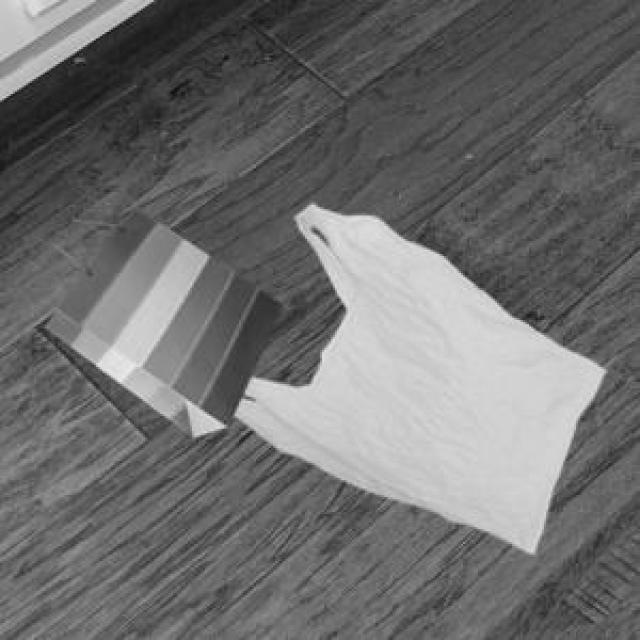paper: (43, 205, 277, 433)
